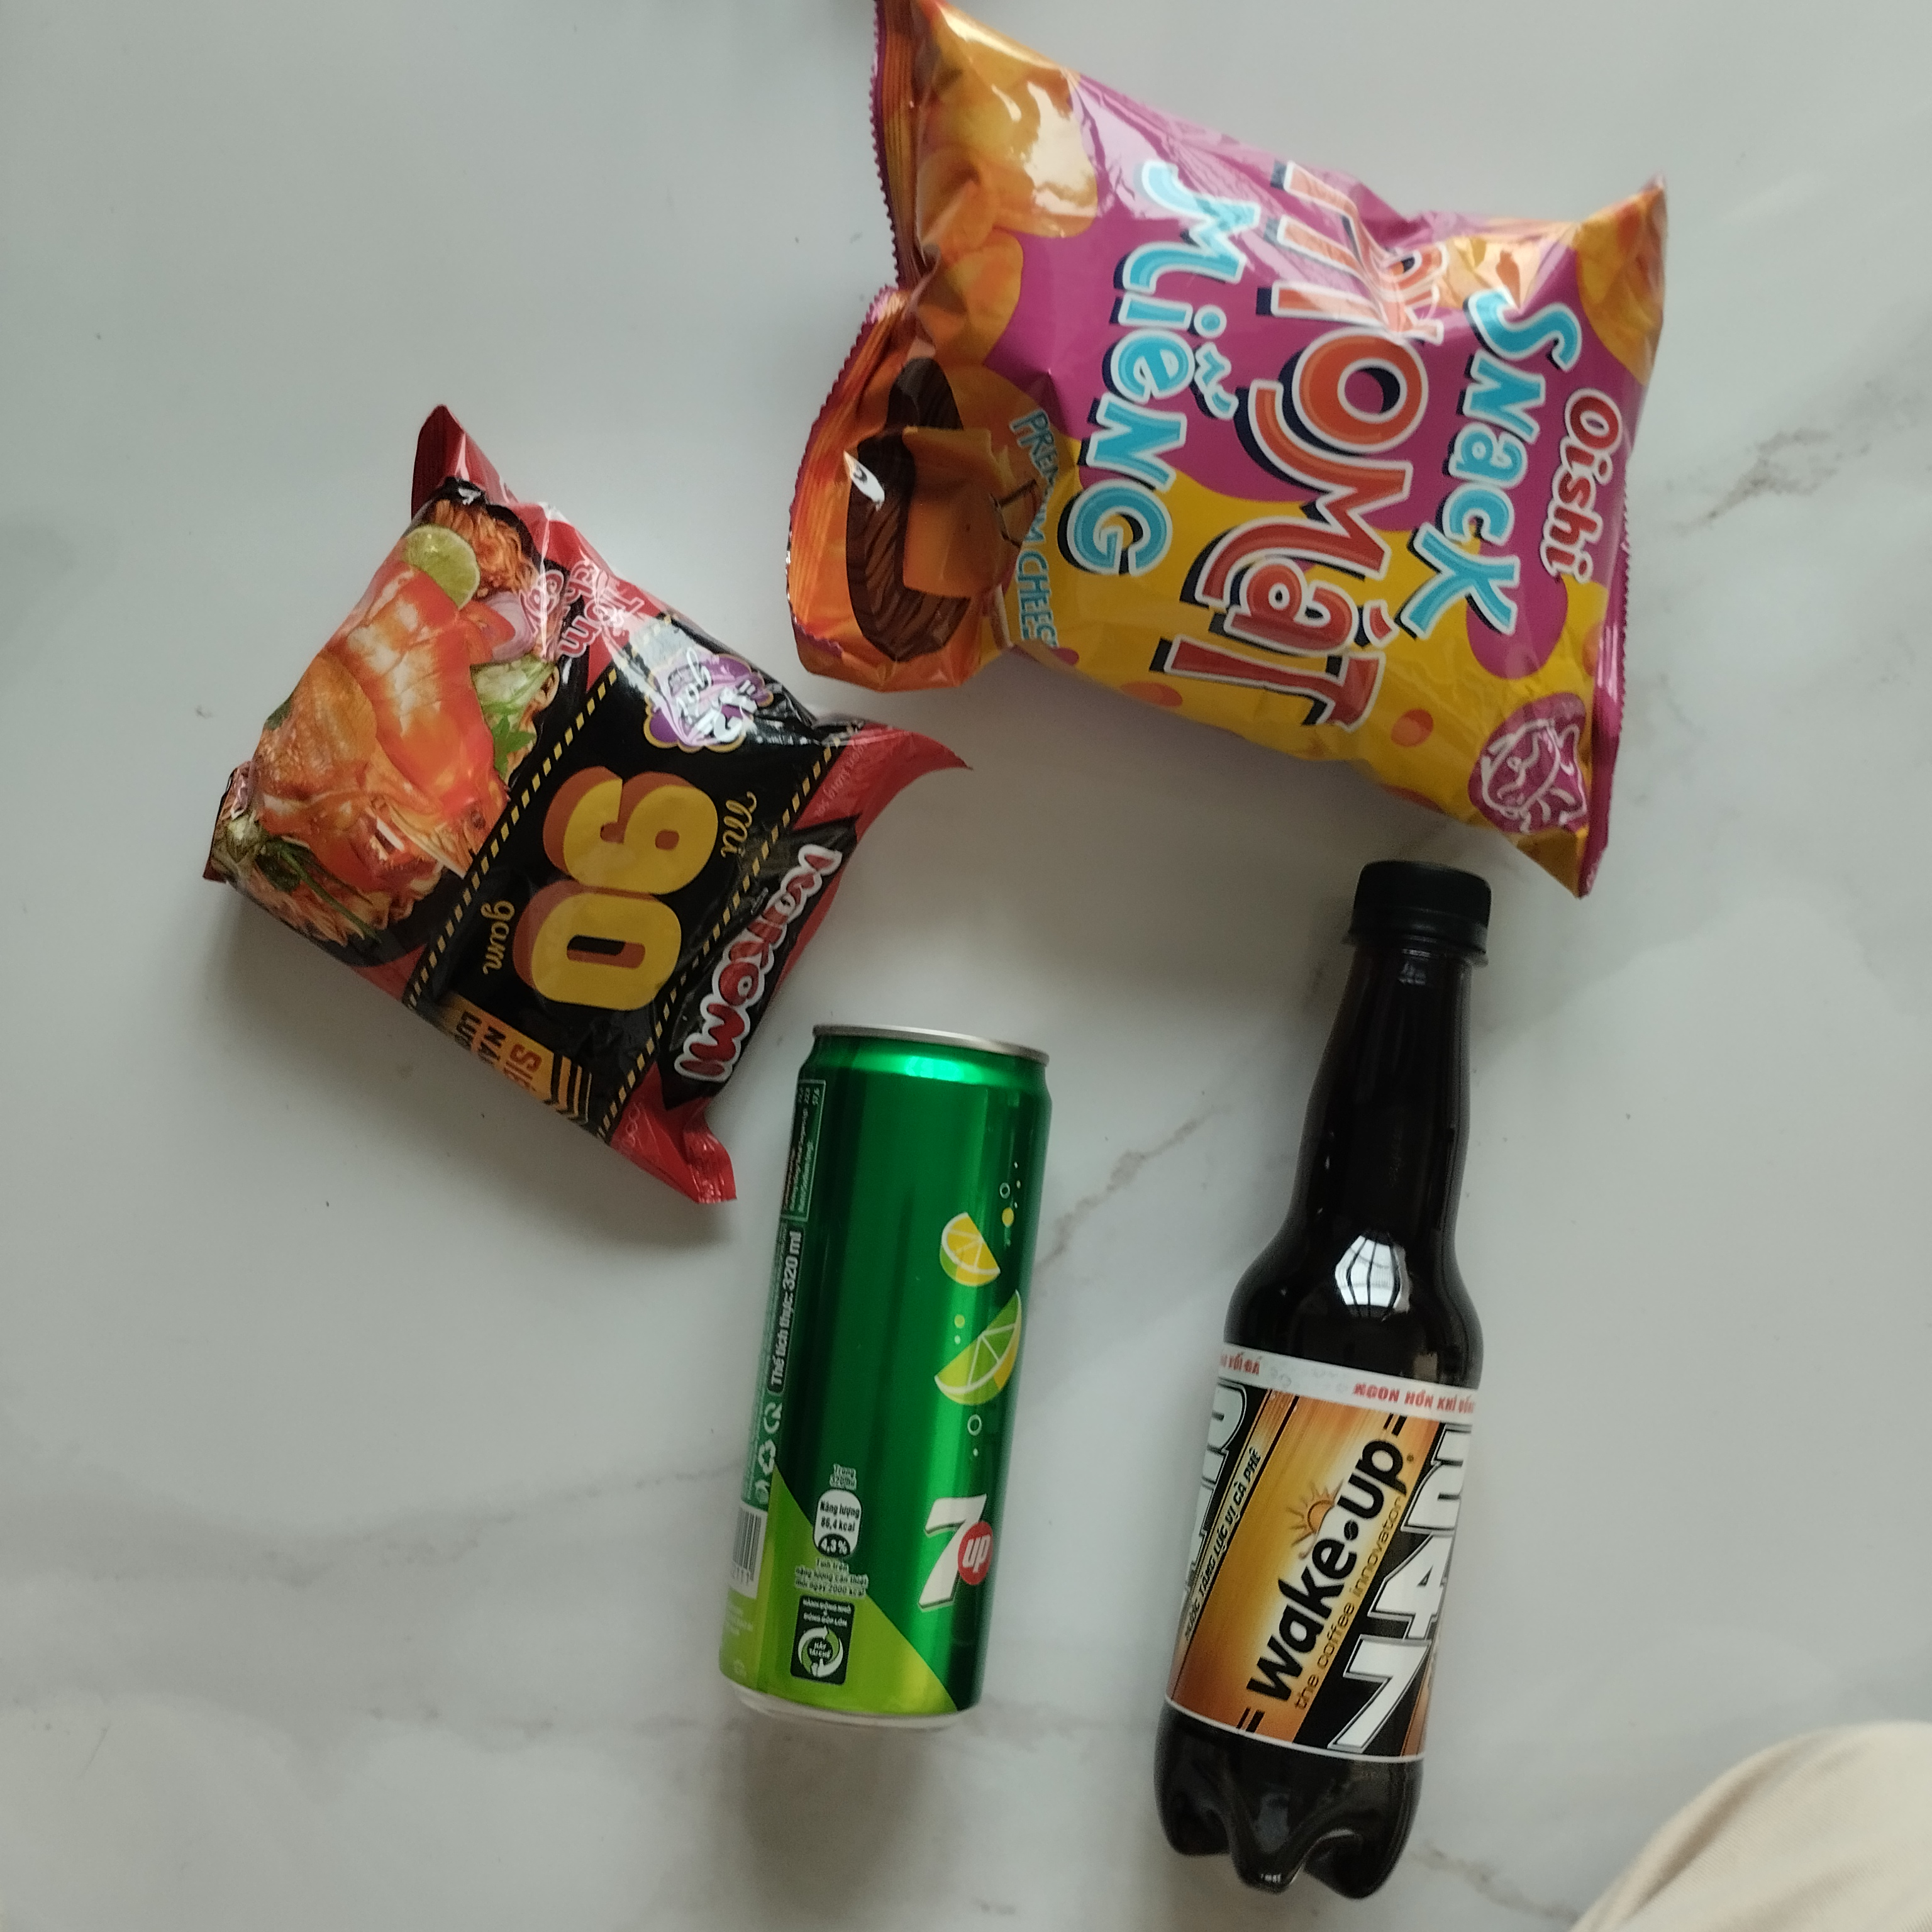247: (1157, 855, 1514, 1905)
7up: (715, 1017, 1046, 1744)
Kokomi: (180, 403, 966, 1221)
Oishi_phomat: (777, 7, 1693, 941)
